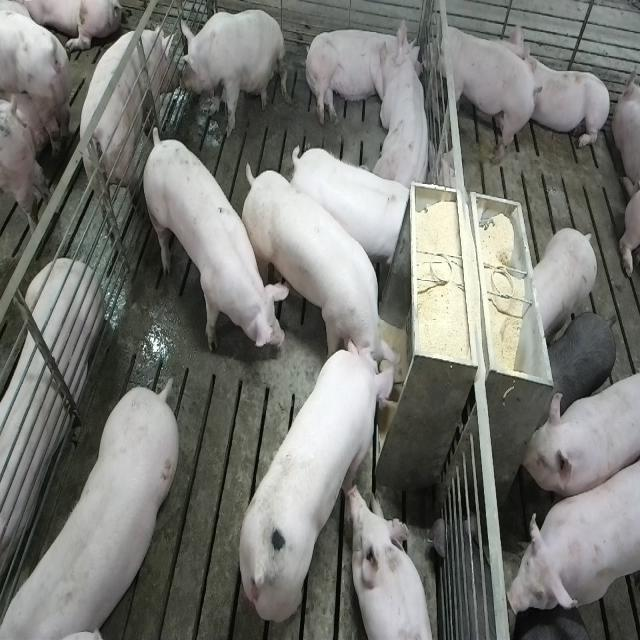Feeding: (236, 335, 400, 624), (240, 162, 402, 383)
Lateral_lying: (303, 17, 420, 128)
Sitting: (179, 8, 285, 138)
Standing: (0, 381, 177, 640), (140, 121, 281, 362), (508, 448, 638, 620), (81, 18, 179, 224), (287, 144, 413, 272), (432, 19, 537, 168), (521, 366, 637, 498), (0, 0, 69, 150), (530, 227, 598, 342), (546, 310, 616, 420), (510, 608, 604, 640)
Sternal_lying: (0, 261, 100, 605), (348, 482, 438, 640), (376, 24, 434, 196), (523, 41, 612, 153)
